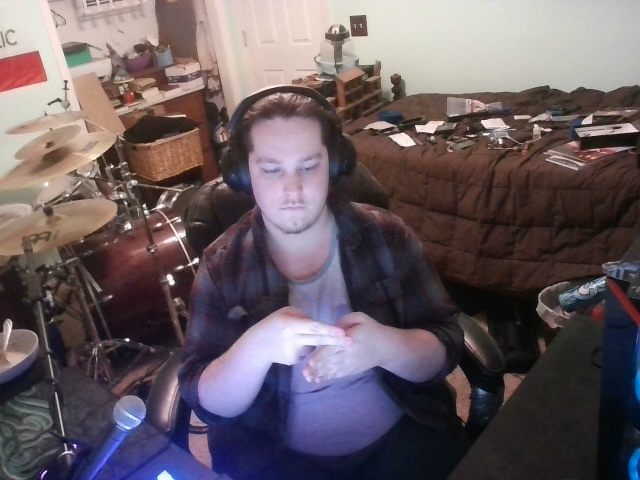name: (249, 289, 388, 399)
